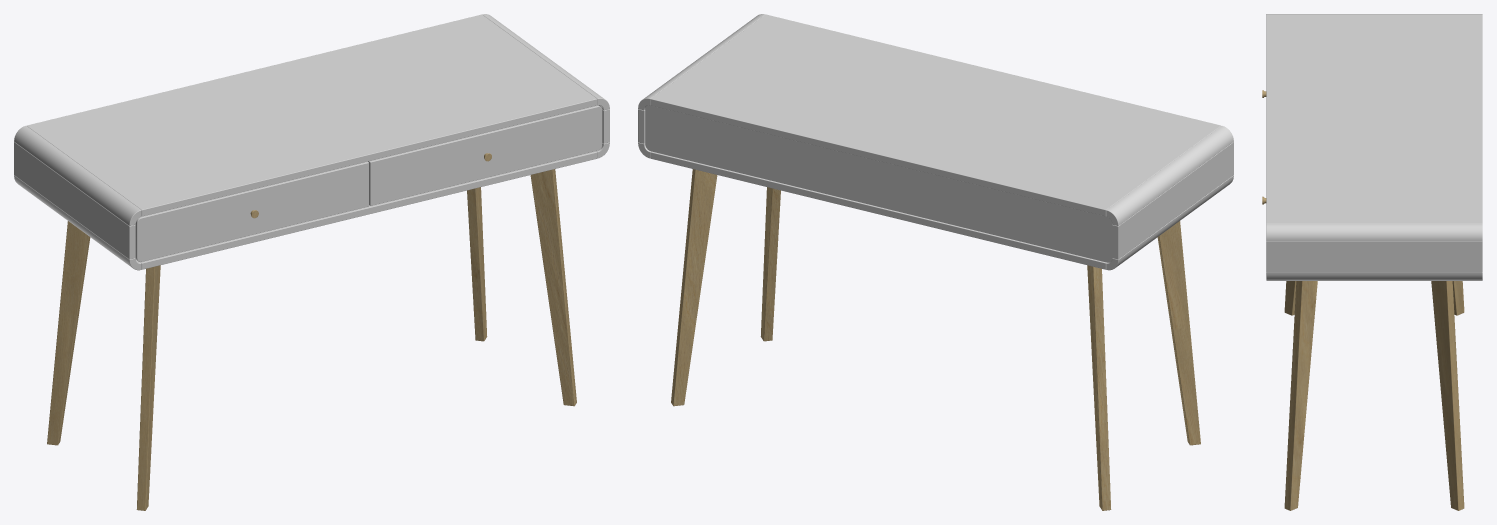
Rendered from white_minimal_desk.glb.
3 renders of one model, left to right at view 1: azimuth 30°, elevation 25°; view 2: azimuth 150°, elevation 25°; view 3: azimuth 270°, elevation 25°, orthographic. The views are drawn at different scales.
Visible parts, largest first — view 1: Body, Drawers, Legs; view 2: Body, Legs; view 3: Body, Legs.
Boxes of the visible parts, <box> form: Body: <box>14,14,609,270</box>; Drawers: <box>135,105,602,261</box>; Legs: <box>47,169,576,510</box>; Body: <box>638,14,1233,270</box>; Legs: <box>671,169,1200,510</box>; Body: <box>1266,14,1482,280</box>; Legs: <box>1284,281,1464,510</box>.
Bounding box in the file's own units: 1.2 × 0.743 × 0.5093.
2 materials, 1 textured.
